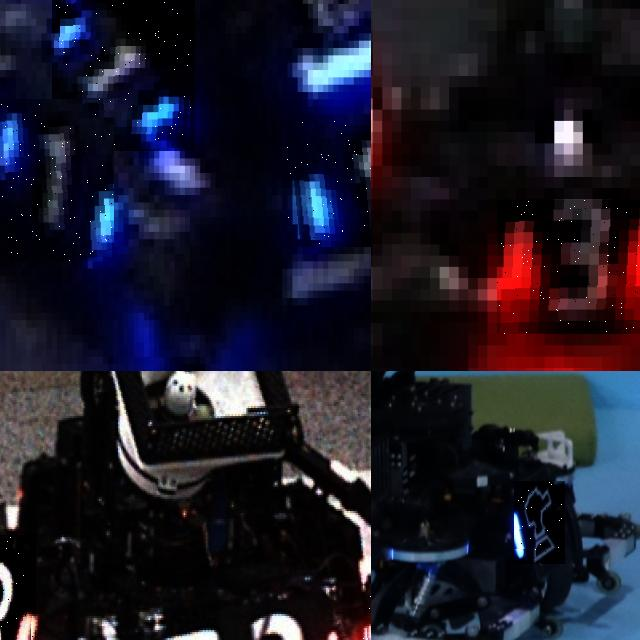B1: (51, 0, 195, 151), (0, 99, 113, 261), (287, 114, 371, 246)
Bs: (514, 481, 566, 564)
R3: (496, 199, 640, 334), (0, 535, 36, 640)
